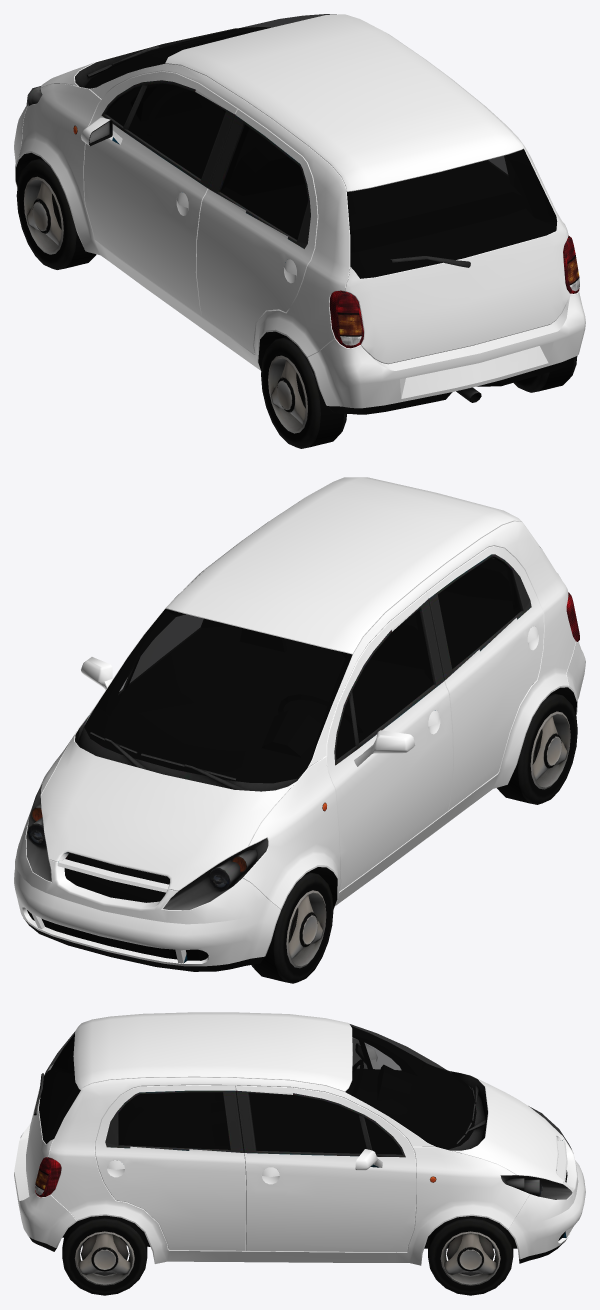
The model's file is compact-1.glb.
3 renders of one model, top to bottom at view 1: azimuth 30°, elevation 25°; view 2: azimuth 150°, elevation 25°; view 3: azimuth 270°, elevation 25°, orthographic. The views are drawn at different scales.
Parts seen in each view (by area): view 1: body, wheel_fr, wheel_rr, wheel_fl; view 2: body, wheel_rr, wheel_fr; view 3: body, wheel_fl, wheel_rl.
Boxes of the visible parts, <box> form: body: <box>14,14,585,414</box>; wheel_fr: <box>261,337,346,448</box>; wheel_rr: <box>16,158,96,269</box>; wheel_fl: <box>513,356,577,392</box>; body: <box>14,477,585,971</box>; wheel_rr: <box>251,872,333,983</box>; wheel_fr: <box>497,692,577,804</box>; body: <box>14,1012,585,1265</box>; wheel_fl: <box>62,1215,147,1295</box>; wheel_rl: <box>428,1216,513,1295</box>.
Size of the model in its own units: 1.61 by 1.32 by 3.26.
5 materials, 3 textured.
